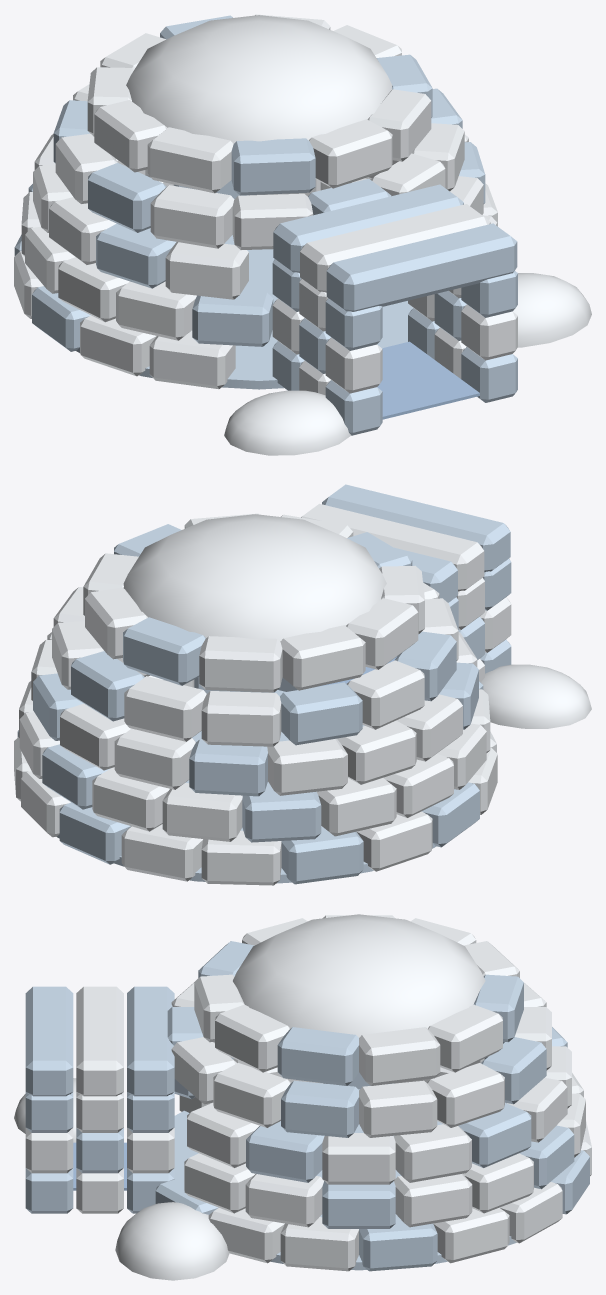
File: vuena-prop-igloo.glb
3 renders of one model, top to bottom at view 1: azimuth 30°, elevation 25°; view 2: azimuth 150°, elevation 25°; view 3: azimuth 270°, elevation 25°, orthographic. The views are drawn at different scales.
Visible parts, largest first — view 1: igloo; view 2: igloo; view 3: igloo.
Boxes of the visible parts, x1,y1,x2,y2 form: igloo: [14, 14, 591, 455]; igloo: [14, 484, 591, 885]; igloo: [14, 914, 591, 1280].
Size of the model in its own units: 3.88 by 2.12 by 4.66.
1 material, 1 textured.
